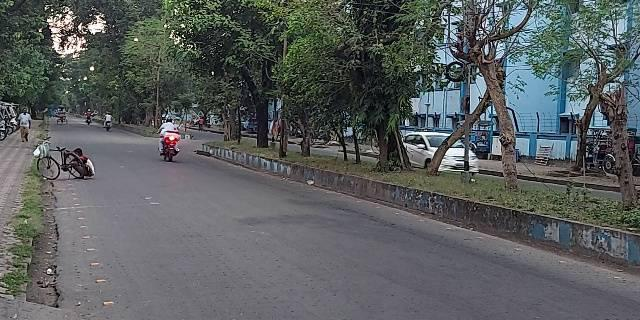Cycle: (35, 148, 85, 180)
Motorbike: (157, 117, 182, 161)
